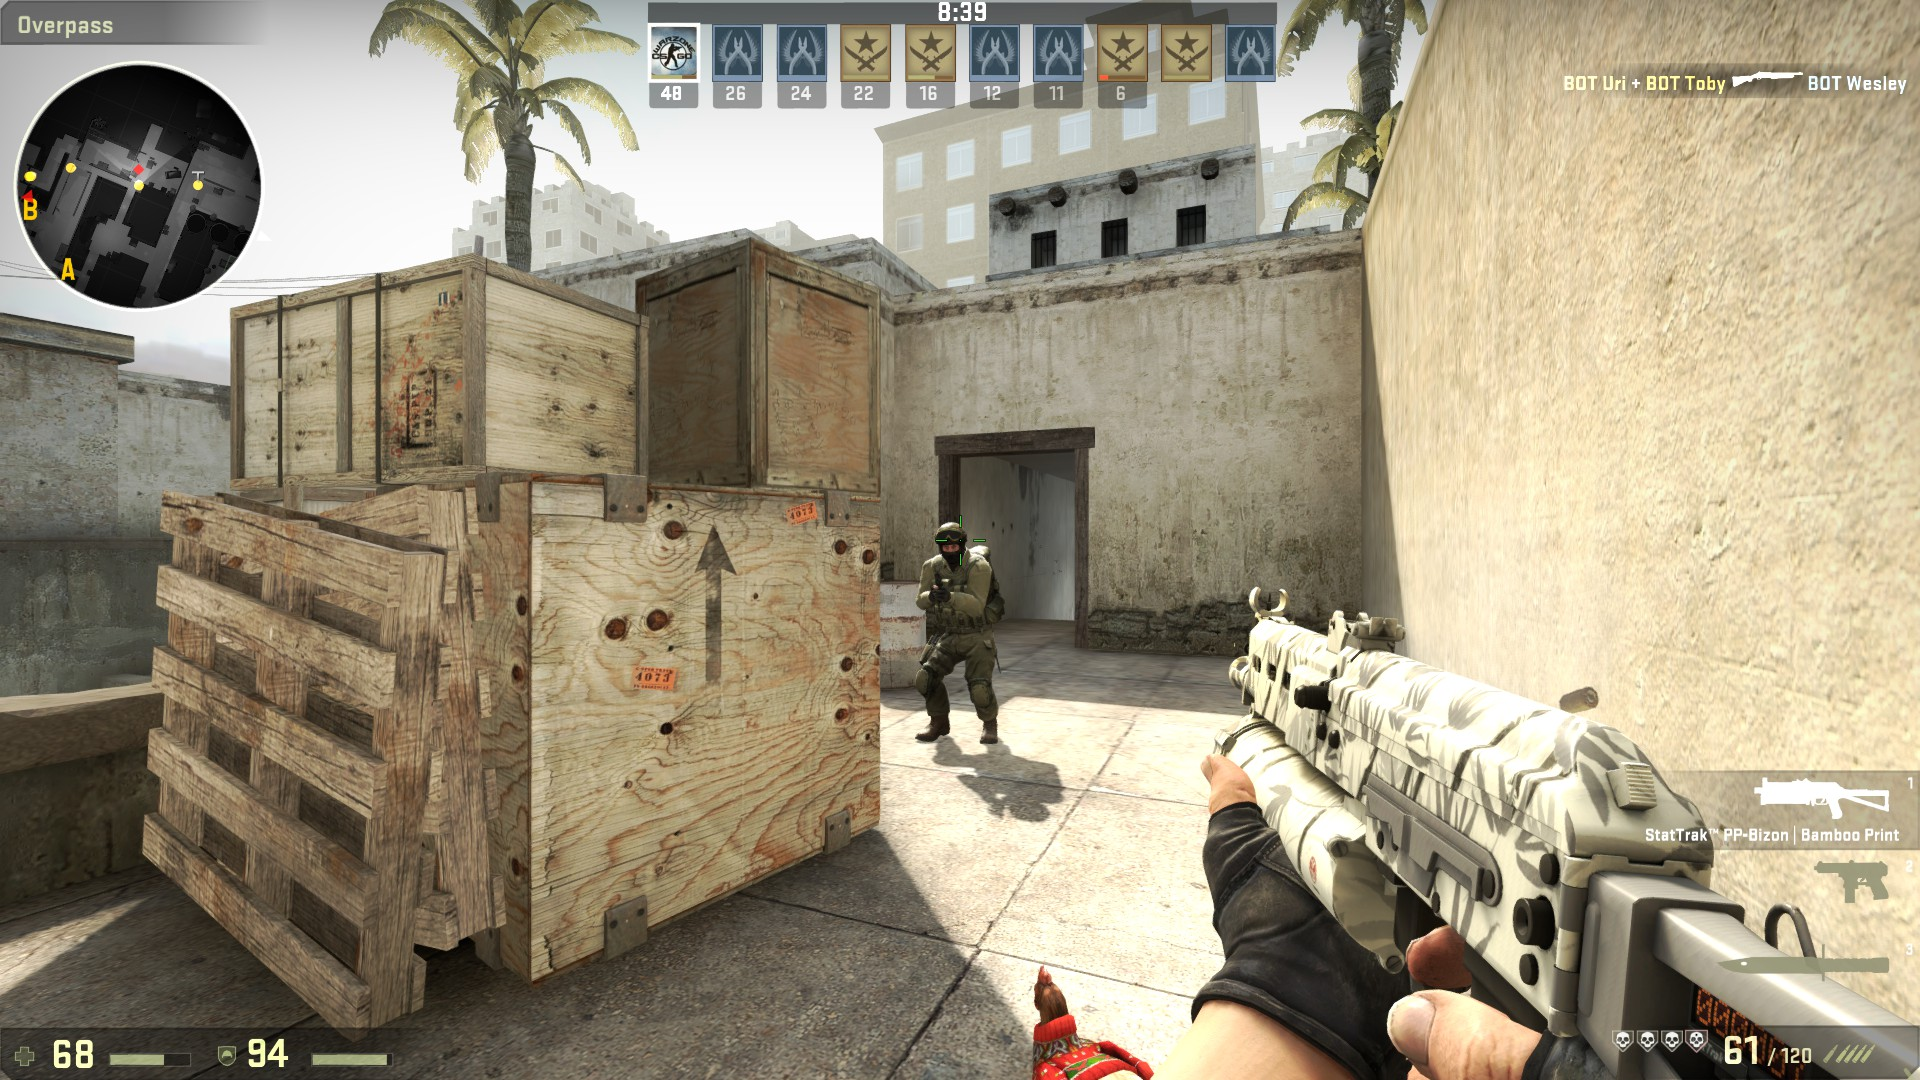c: (911, 518, 1005, 746)
ch: (935, 520, 971, 568)
